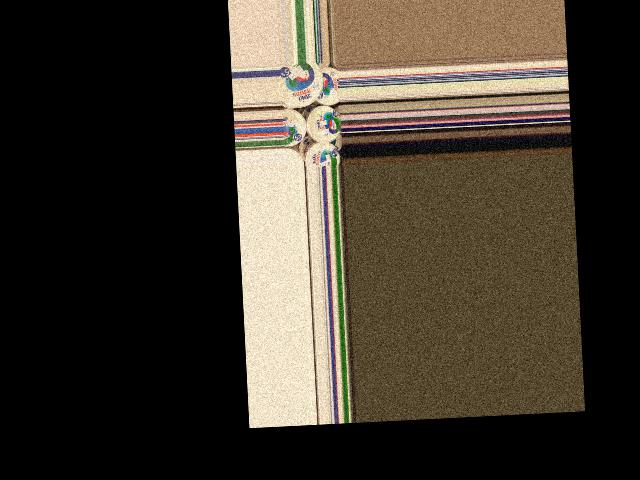cotage: (314, 66, 340, 108)
